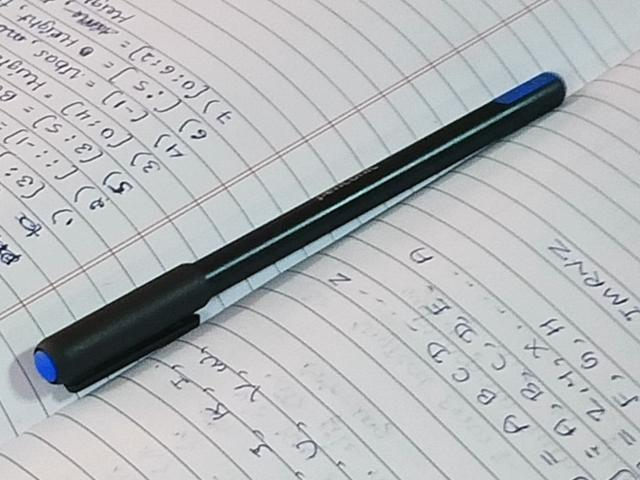PEN: (17, 50, 590, 414)
